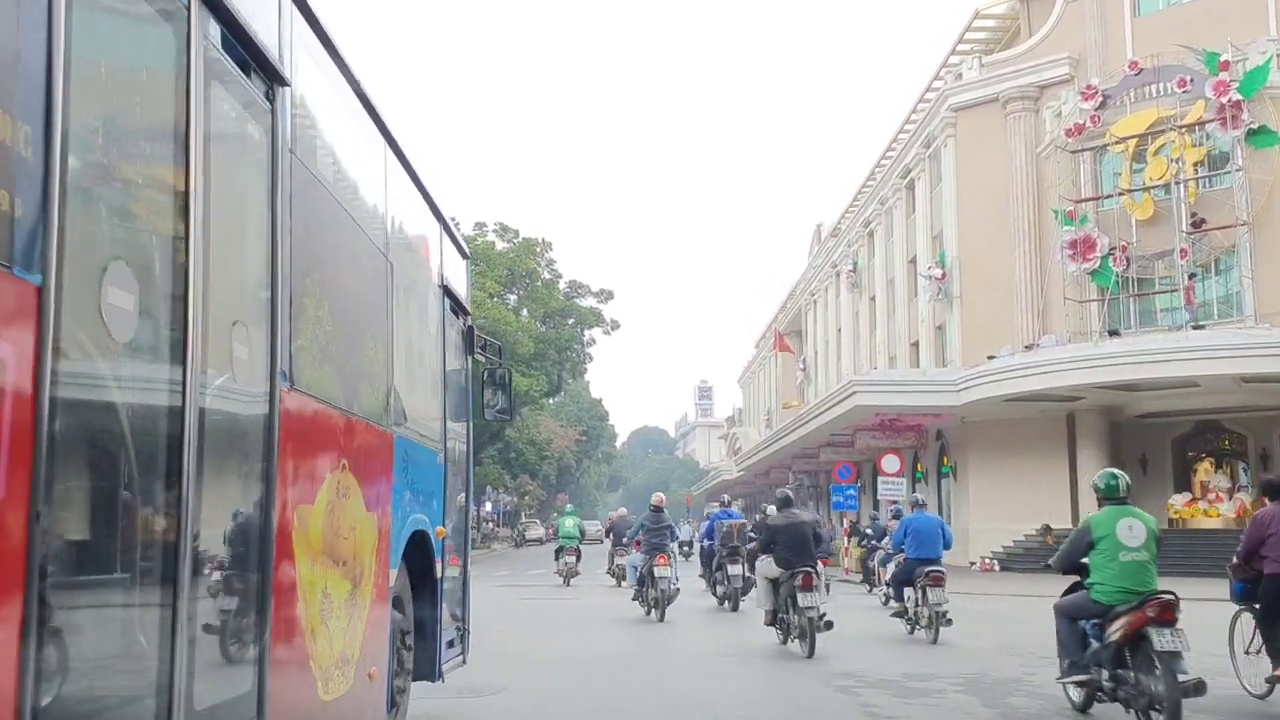person: (1145, 627, 1194, 655), (927, 583, 947, 606), (797, 591, 825, 605), (723, 562, 743, 576), (651, 564, 670, 578)
